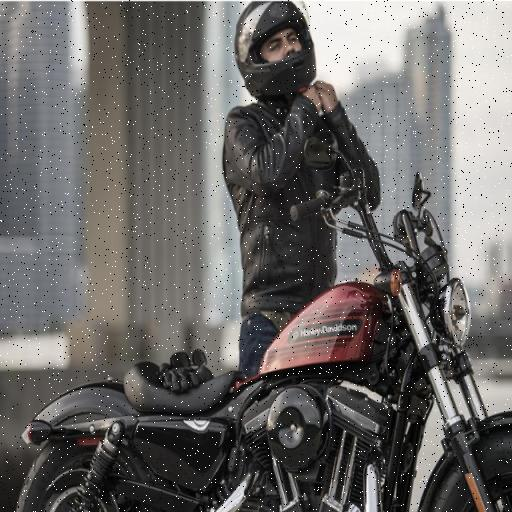Helmet: (230, 0, 320, 94)
Motor: (6, 268, 512, 512)
